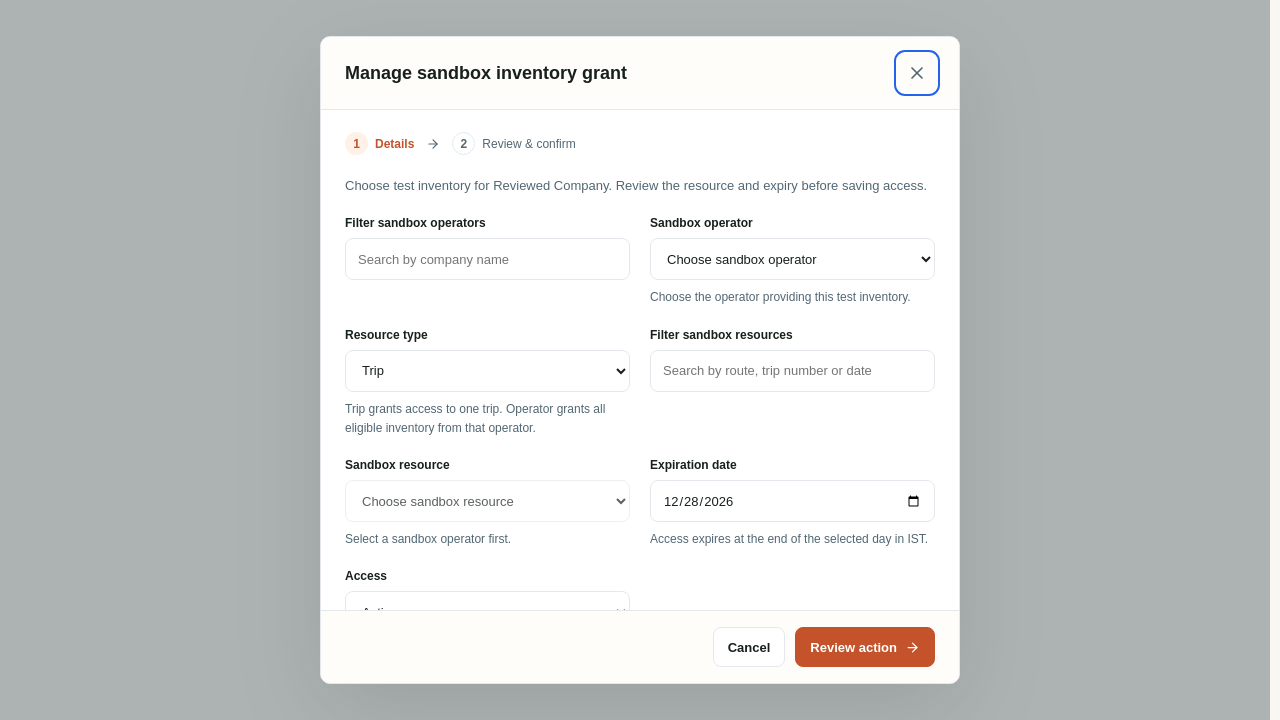
Test: keeps the grant decision and retry key after rejected password verification
Later steps or results of the test are not shown.
Select "Sandbox Fleet A" in the dropdown labelled "Sandbox operator": coordinates (792, 259) [650,238,935,280]
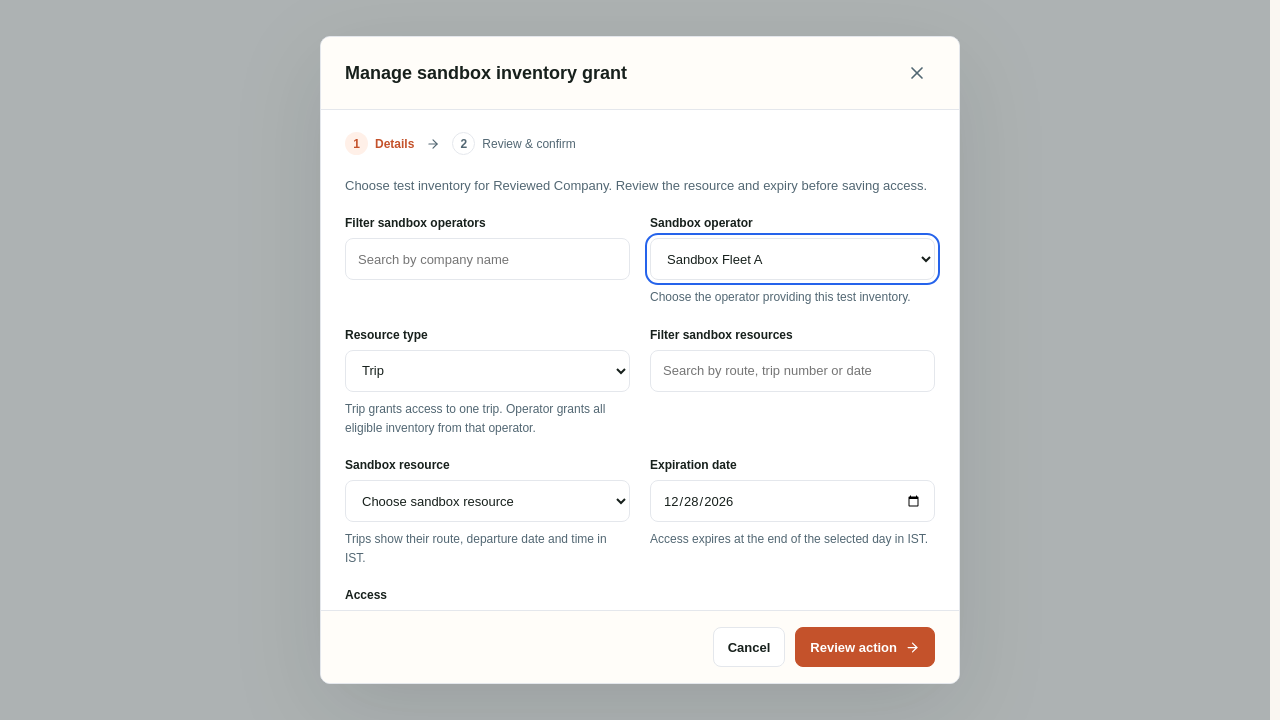
Select "Pune → Mumbai · 2030-01-01 · 08:00 pm IST" in the dropdown labelled "Sandbox resource": coordinates (488, 501) [345,480,630,522]
(page scrolled)
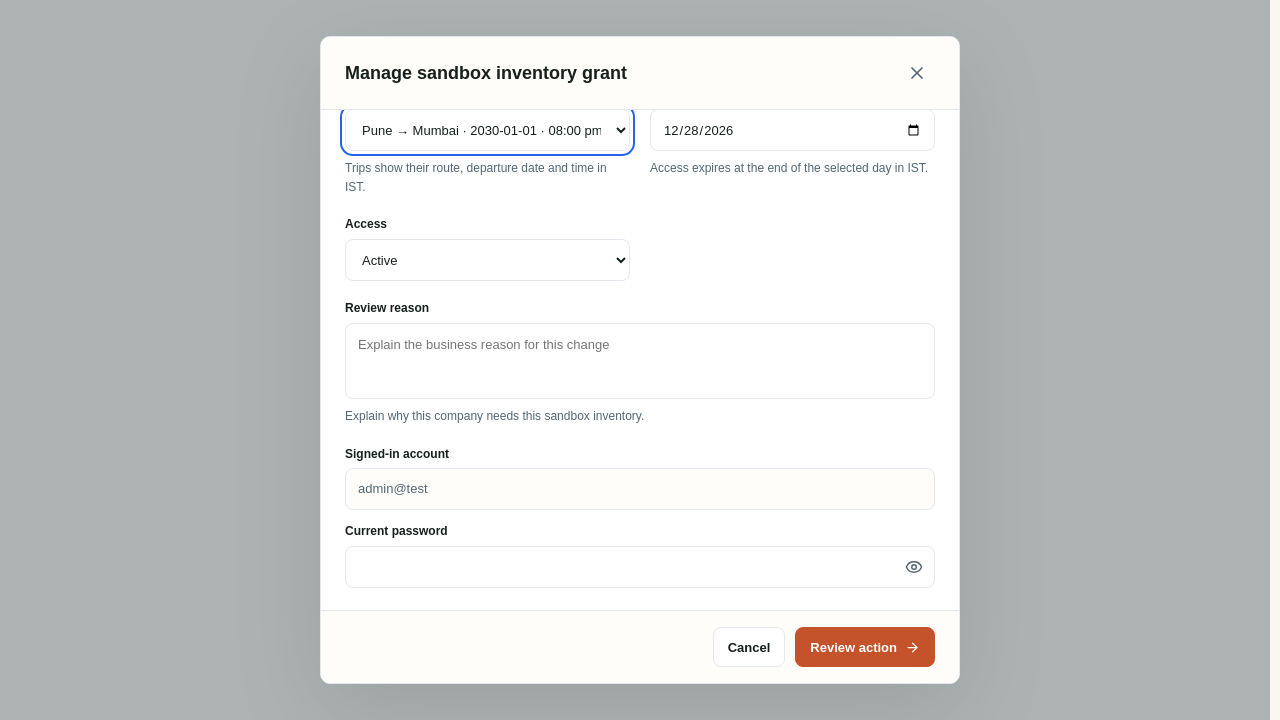
In the text box labelled "Review reason": coordinates (640, 361) [345,323,935,399], type "Reviewed inventory integration"
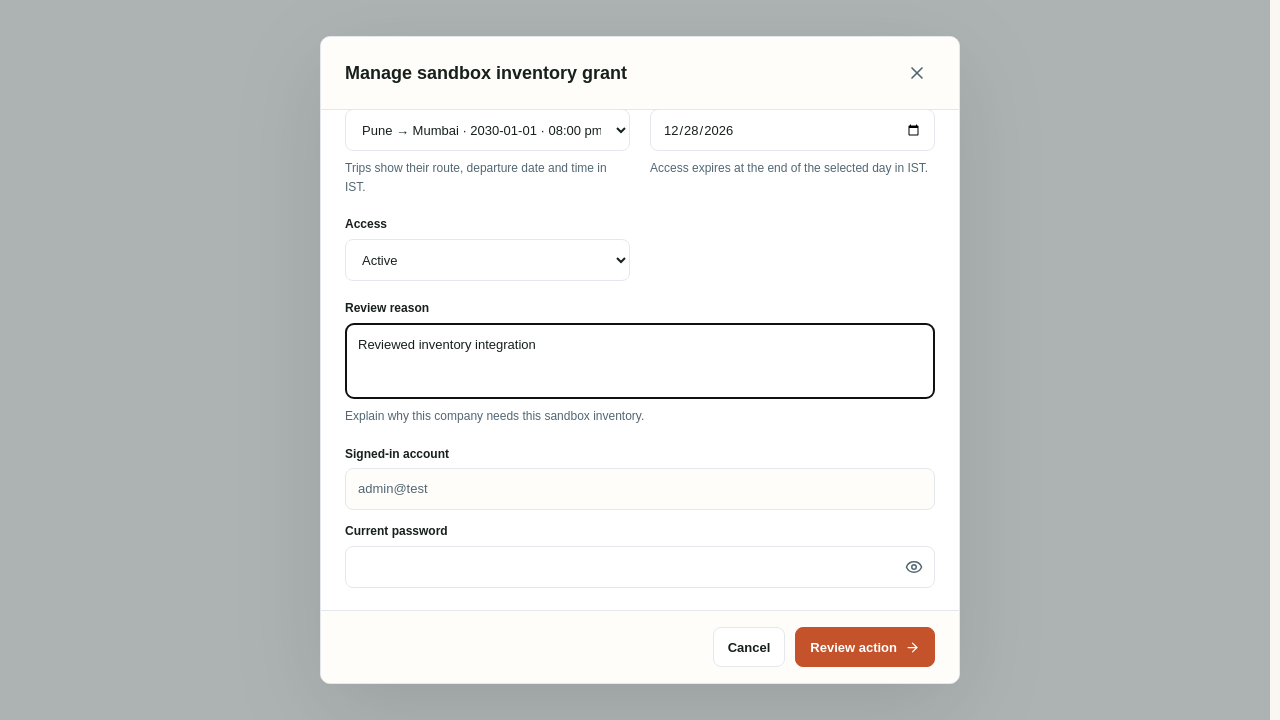
In the password field labelled "Current password": coordinates (640, 567) [345,546,935,588], type "wrong-password"
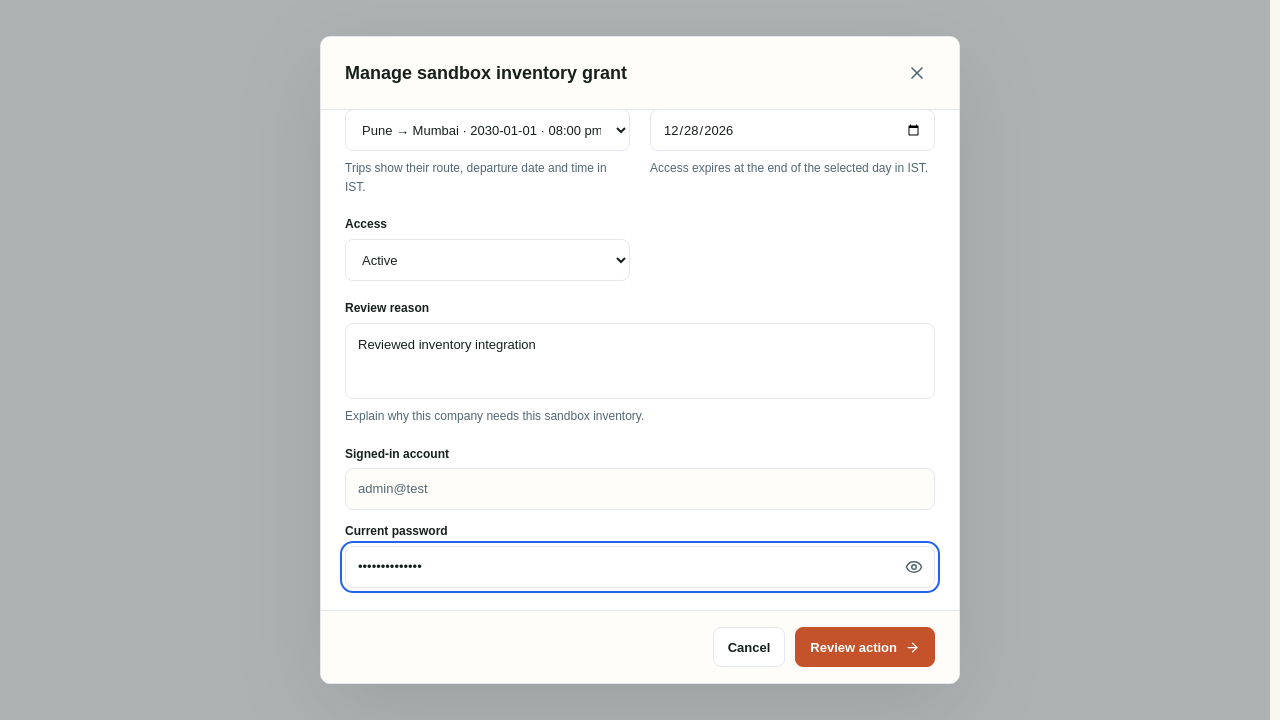
Click the button "Review action": coordinates (865, 647) [795,627,935,667]
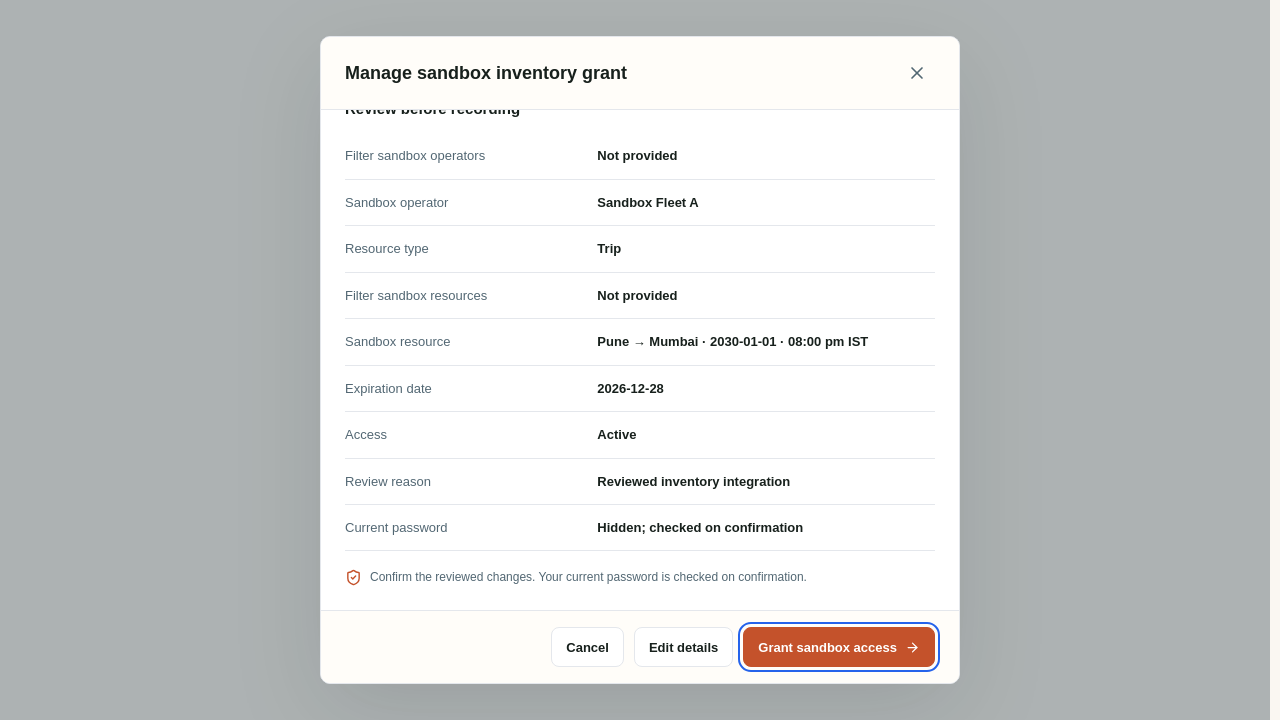
Click the button "Grant sandbox access": coordinates (839, 647) [743,627,935,667]
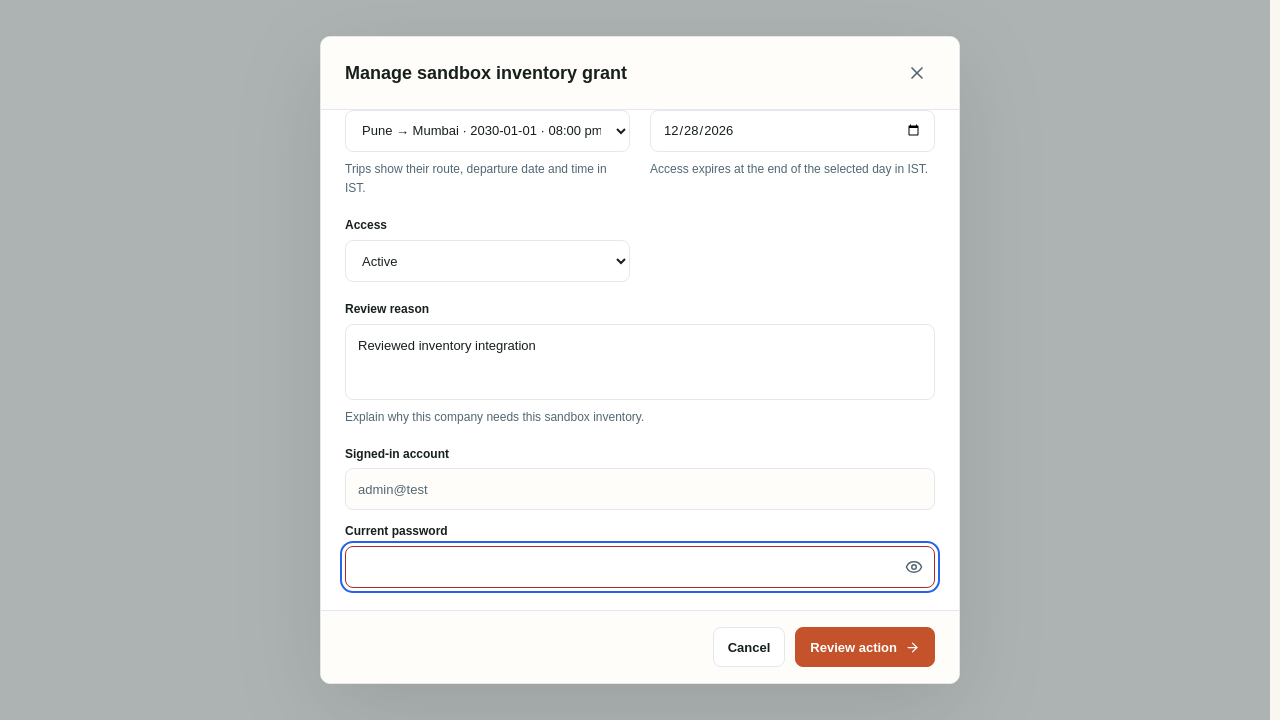
Check: the password field labelled "Current password" is empty, box [345,546,935,588]
